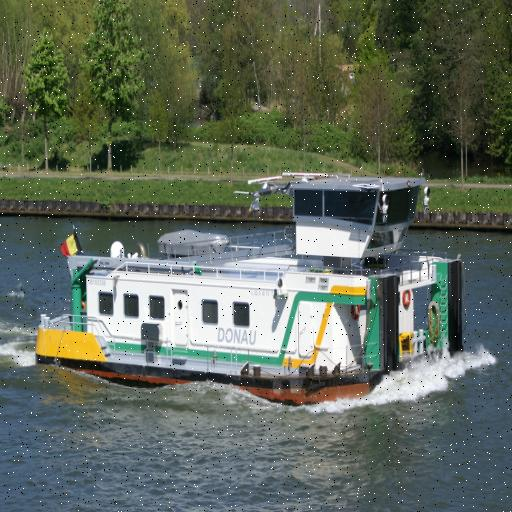tugboat: (30, 169, 472, 418)
